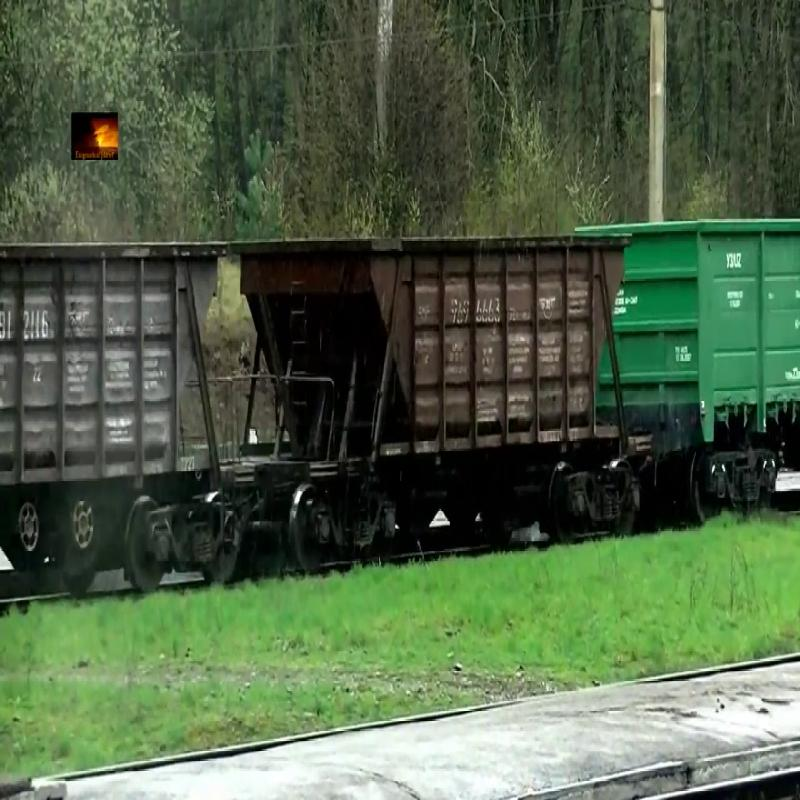train: (230, 238, 618, 481), (1, 237, 230, 487), (596, 216, 800, 446)
